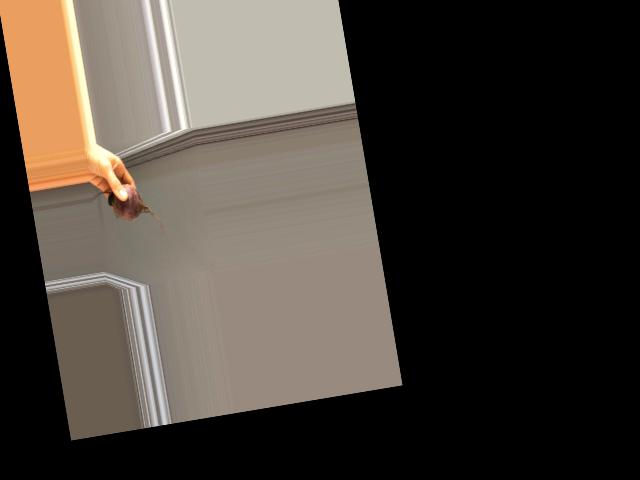beet: (90, 179, 164, 245)
